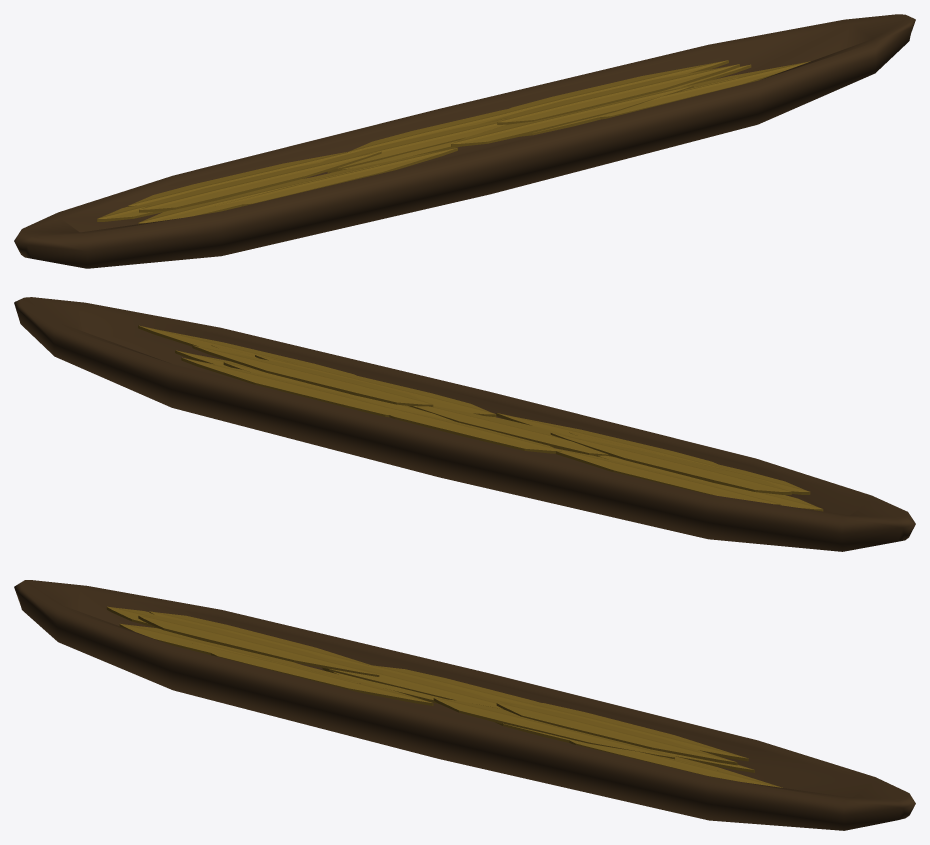
File: marche3.gltf
3 views of the same model, one above another, from view 1: azimuth 30°, elevation 25°; view 2: azimuth 150°, elevation 25°; view 3: azimuth 330°, elevation 25° (orthographic).
Parts seen in each view (by area): view 1: Cube.066; view 2: Cube.066; view 3: Cube.066.
Part boxes in pixels (x1,y1,x2,y2): Cube.066: (14, 14, 915, 268); Cube.066: (14, 297, 915, 551); Cube.066: (14, 580, 915, 830).
Bounding box in the file's own units: 8.07 × 0.4815 × 0.849.
